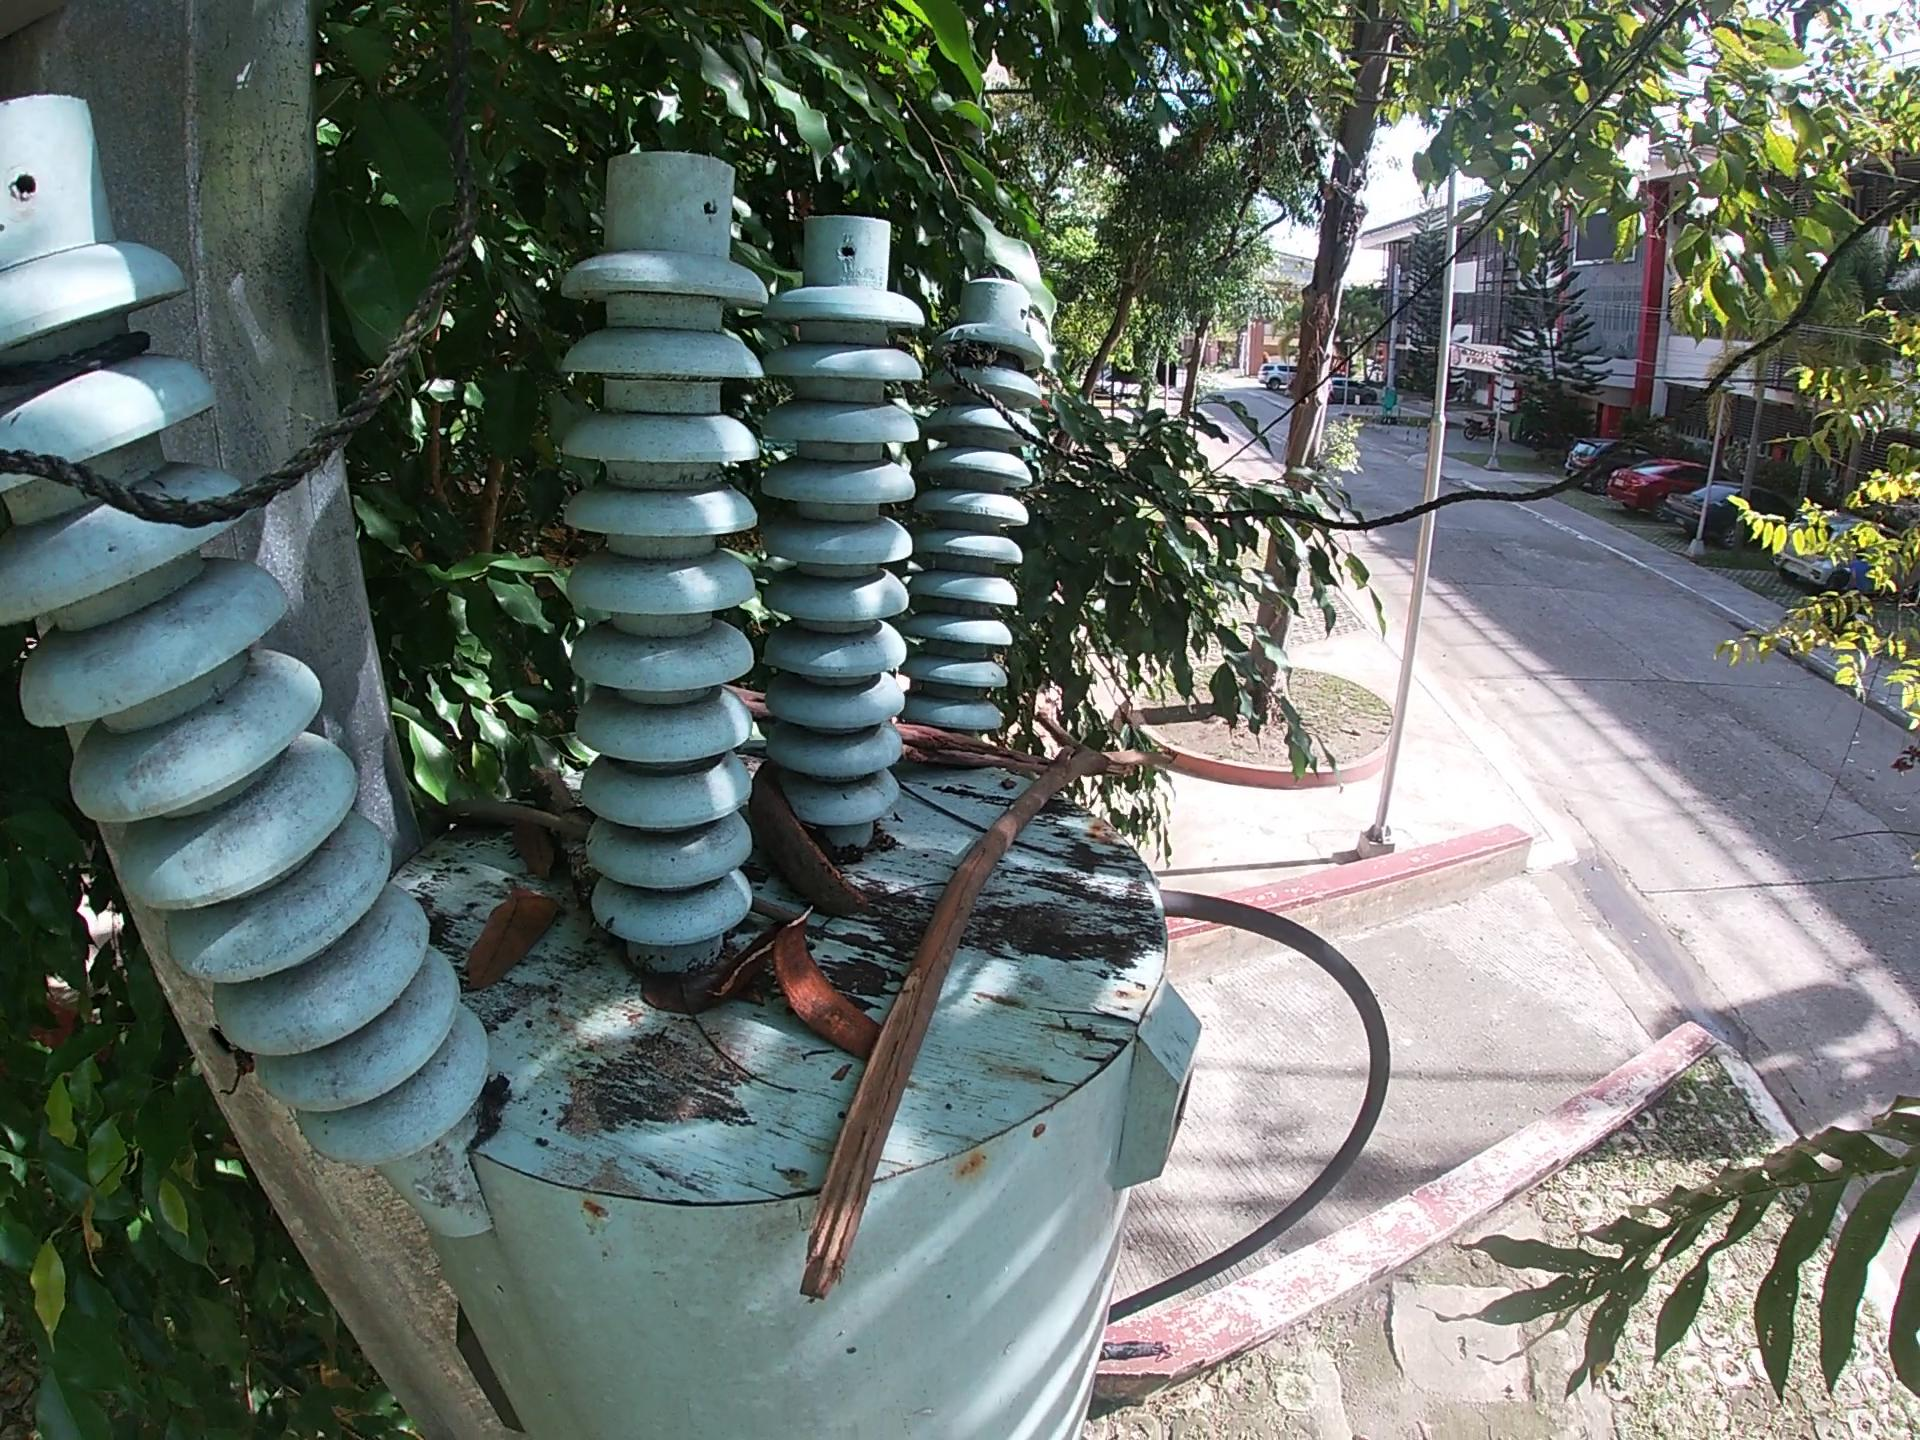leaf: (454, 877, 559, 1000), (630, 967, 723, 1016), (513, 815, 562, 883)
mahogany fruit: (747, 758, 875, 917), (770, 906, 884, 1066), (703, 921, 785, 1007)
tree branch: (795, 694, 1184, 1307), (726, 687, 1058, 774), (525, 759, 603, 921), (423, 793, 590, 846), (747, 897, 804, 921)
